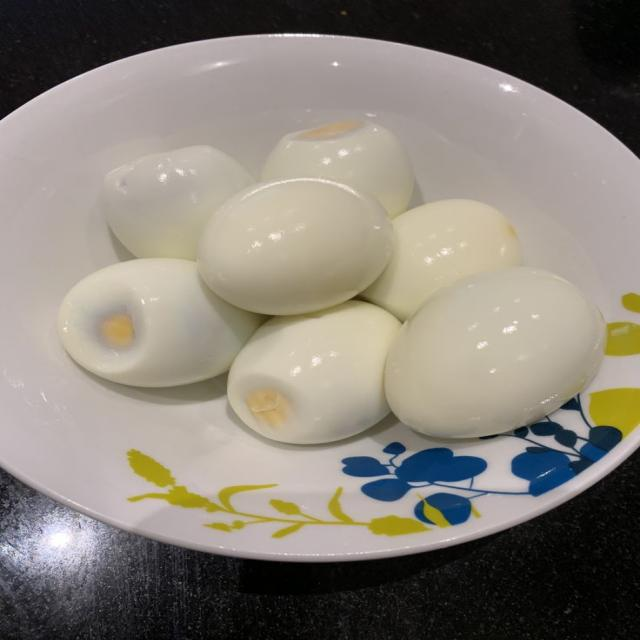egg boiled: (386, 267, 605, 437), (198, 179, 393, 315), (58, 259, 264, 386), (227, 301, 399, 444), (361, 199, 520, 320), (102, 146, 253, 260), (261, 121, 413, 217)
